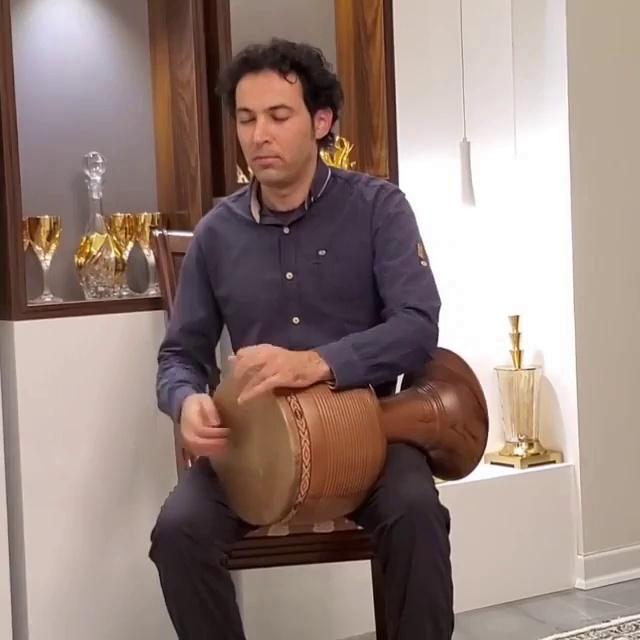Tombak: (200, 342, 486, 532)
